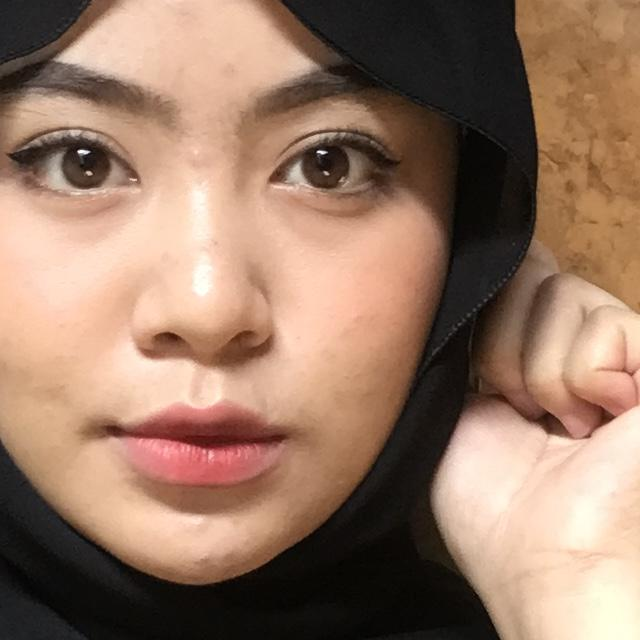ibu: (370, 226, 640, 640)
